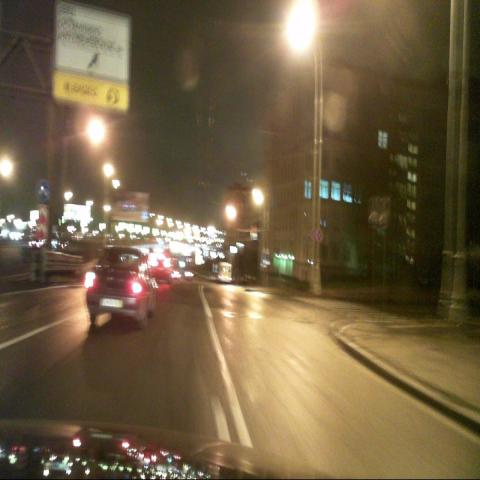4_2_3: (36, 179, 50, 205)
